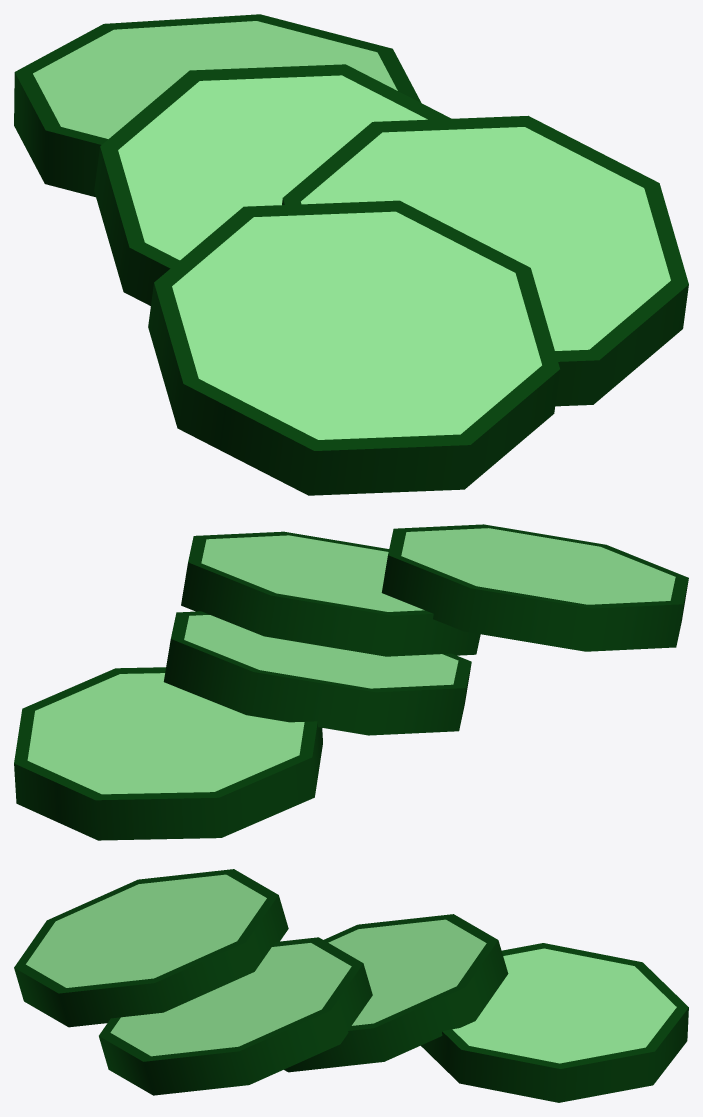
File: Cumcumber.fbx
3 views of the same model, one above another, from view 1: azimuth 30°, elevation 25°; view 2: azimuth 150°, elevation 25°; view 3: azimuth 270°, elevation 25° (orthographic). The views are drawn at different scales.
Parts seen in each view (by area): view 1: Cylinder.025; view 2: Cylinder.025; view 3: Cylinder.025.
Boxes of the visible parts, left/top/right/bottom form: Cylinder.025: left=14, top=14, right=688, bottom=495; Cylinder.025: left=14, top=524, right=688, bottom=840; Cylinder.025: left=14, top=869, right=688, bottom=1102.
Bounding box in the file's own units: 24.88 × 6.92 × 39.79.
